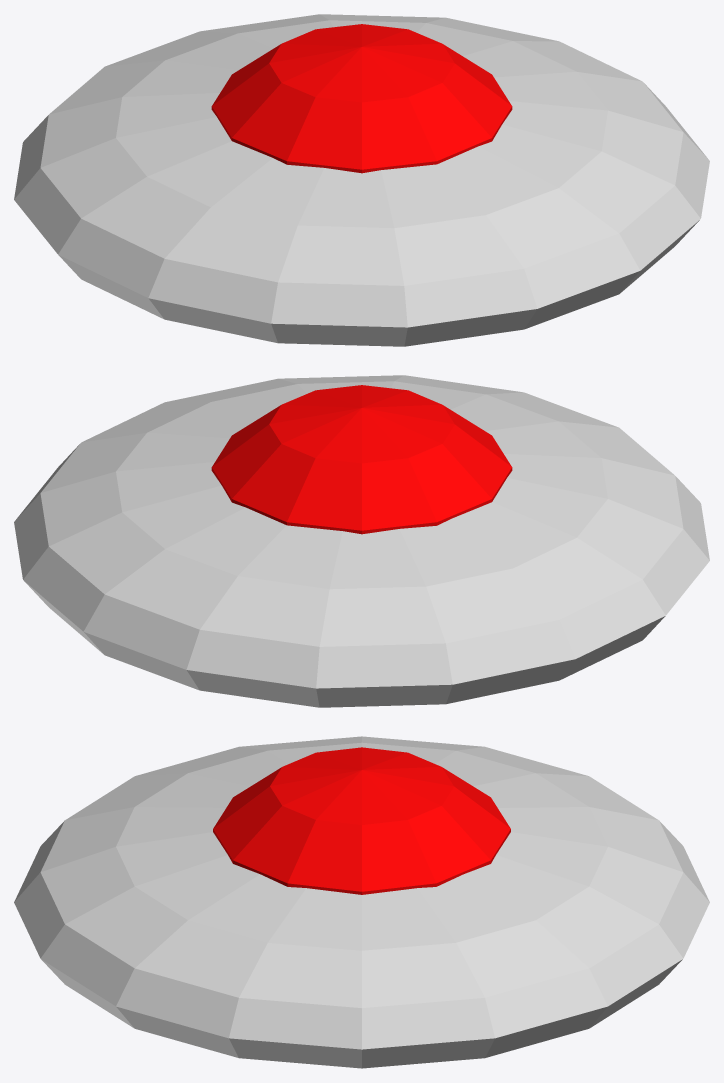
The model's file is ufo.obj.
3 renders of one model, top to bottom at view 1: azimuth 30°, elevation 25°; view 2: azimuth 150°, elevation 25°; view 3: azimuth 270°, elevation 25°, orthographic.
Parts seen in each view (by area): view 1: UFO_RedWhite; view 2: UFO_RedWhite; view 3: UFO_RedWhite.
Boxes of the visible parts, x1=… form: UFO_RedWhite: x1=14, y1=14, x2=709, y2=346; UFO_RedWhite: x1=14, y1=375, x2=709, y2=707; UFO_RedWhite: x1=14, y1=736, x2=709, y2=1068.
Bounding box in the file's own units: 2 × 0.77 × 2.
